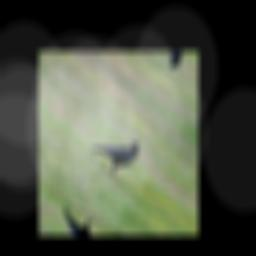Crow: (87, 116, 142, 183)
